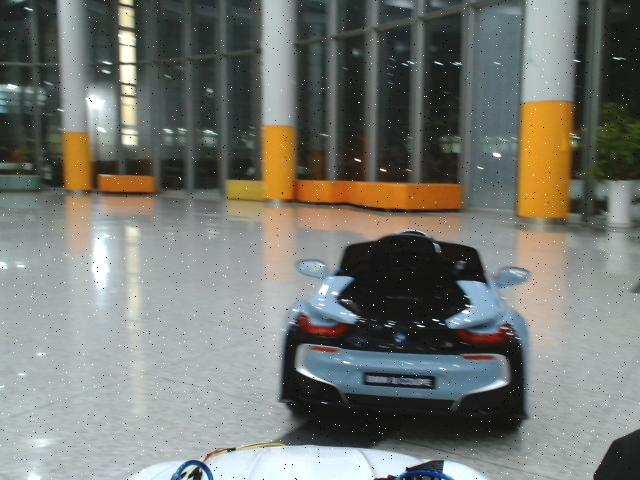car: (278, 229, 531, 433)
